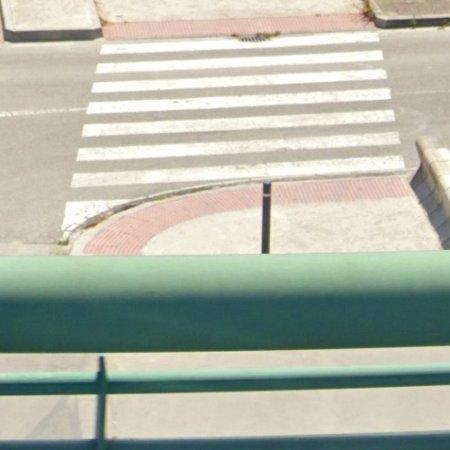crosswalks: (53, 30, 405, 248)
